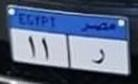1: (26, 34, 37, 60), (41, 38, 51, 61)
raa: (90, 47, 106, 68)
